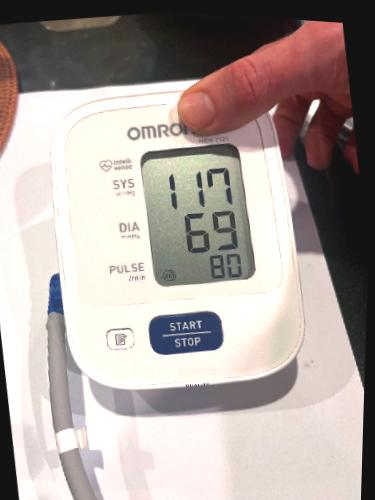bpm: (134, 137, 262, 293)
